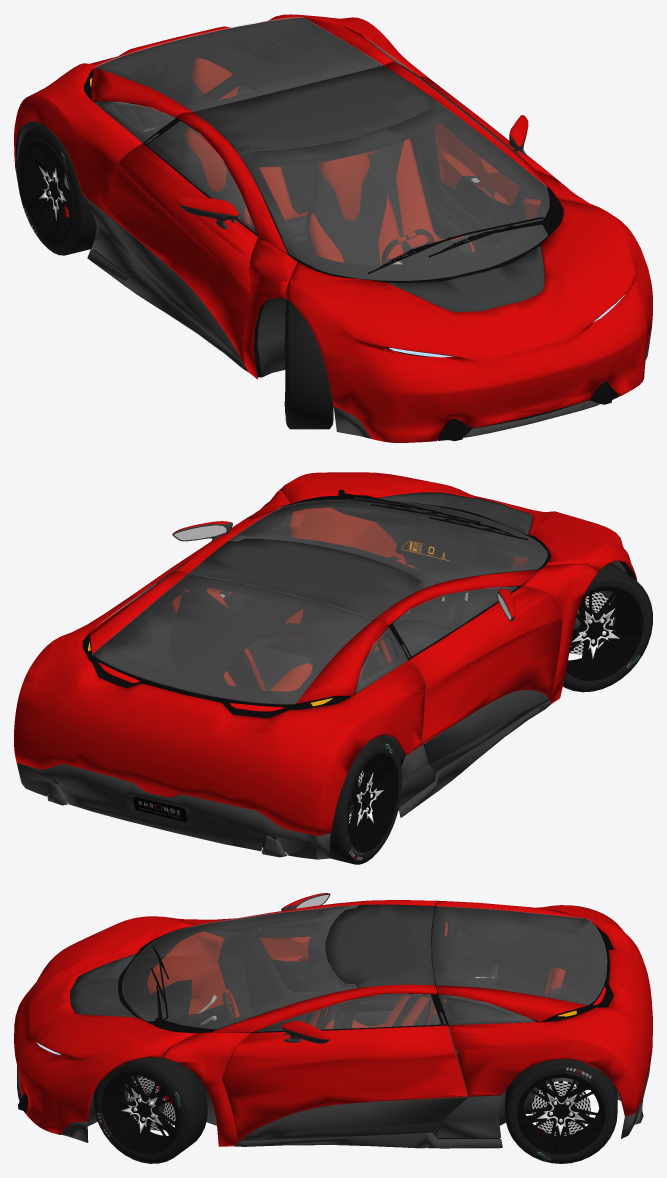
The model's file is sedan.glb.
The picture shows the model from 3 angles, top to bottom: view 1: azimuth 30°, elevation 25°; view 2: azimuth 150°, elevation 25°; view 3: azimuth 270°, elevation 25°; orthographic projection. The views are drawn at different scales.
Parts seen in each view (by area): view 1: BodyHood, BodyWindshield, BodyRearwindow, BodyDoorRColor1, BodyRearPanelsColor1, BodyRoofPanel, BodyWindshieldGasket, InteriorSeatsColor1, InteriorSeatsColor2, BodyPillars, InteriorPillar, InteriorRearHatch (+21 smaller); view 2: BodyRearPanelsColor1, BodyRearwindow, BodyWindshield, BodyDoorRColor1, BodyPanelsColor2, BodyRoofPanel, BodyHood, InteriorRearHatch, BodyPillars, InteriorPillar, InteriorDashMid, BodyWindshieldGasket (+22 smaller); view 3: BodyRearPanelsColor1, BodyWindshield, BodyDoorLColor1, BodyHood, BodyRearwindow, BodyRoofPanel, BodyPillars, BodyWindshieldGasket, BodyDoorLColor2, BodyPanelsColor2, WheelFrontL, InteriorRearHatch (+25 smaller).
Part boxes in pixels (box(x1,y1,x2,y2)): BodyHood: box(284, 199, 652, 442); BodyWindshield: box(234, 99, 548, 280); BodyRearwindow: box(94, 17, 382, 111); BodyDoorRColor1: box(104, 143, 257, 363); BodyRearPanelsColor1: box(14, 14, 430, 211); BodyRoofPanel: box(193, 65, 432, 150); BodyWindshieldGasket: box(234, 99, 563, 283); InteriorSeatsColor1: box(184, 58, 475, 264); InteriorSeatsColor2: box(180, 78, 472, 264); BodyPillars: box(177, 61, 599, 379); InteriorPillar: box(158, 38, 434, 169); InteriorRearHatch: box(93, 18, 383, 118); BodyRearPanelsColor1: box(14, 570, 425, 835); BodyRearwindow: box(92, 574, 373, 704); BodyWindshield: box(229, 498, 547, 588); BodyDoorRColor1: box(409, 586, 562, 743); BodyPanelsColor2: box(16, 700, 550, 859); BodyRoofPanel: box(189, 538, 422, 618); BodyHood: box(279, 472, 637, 580); InteriorRearHatch: box(93, 574, 373, 708); BodyPillars: box(173, 490, 598, 703); InteriorPillar: box(174, 575, 417, 683); InteriorDashMid: box(331, 503, 528, 623); BodyWindshieldGasket: box(230, 498, 550, 588); BodyRearPanelsColor1: box(436, 900, 652, 1116); BodyWindshield: box(122, 905, 357, 1029); BodyDoorLColor1: box(223, 1025, 467, 1141); BodyHood: box(14, 916, 196, 1134); BodyRearwindow: box(432, 906, 606, 1004); BodyRoofPanel: box(326, 904, 434, 987); BodyPillars: box(163, 900, 437, 1146); BodyWindshieldGasket: box(118, 906, 357, 1033); BodyDoorLColor2: box(240, 1097, 467, 1141); BodyPanelsColor2: box(17, 1061, 650, 1148); WheelFrontL: box(93, 1055, 207, 1163); InteriorRearHatch: box(431, 906, 606, 1021).
Size of the model in its own units: 2.54 by 1.15 by 4.36.
Materials: 23 (6 with a texture image).
